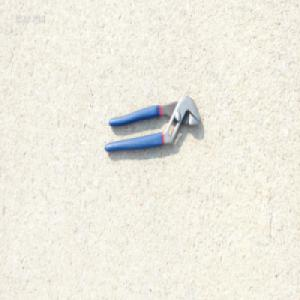Pliers: (102, 95, 200, 153)
